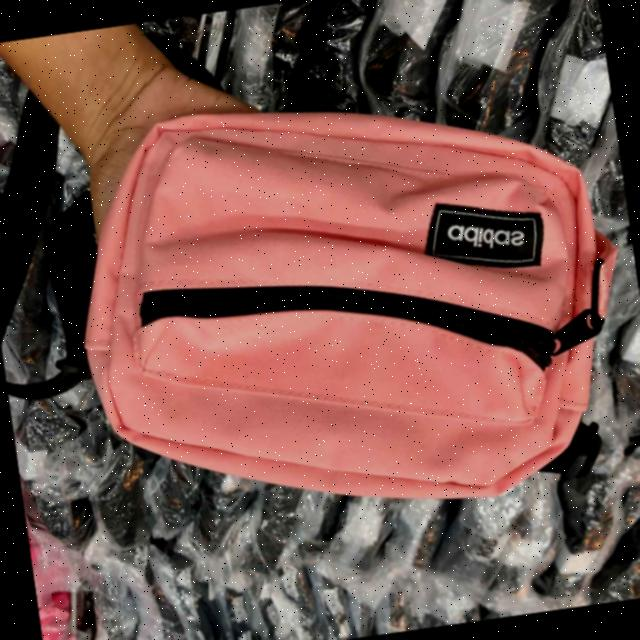Handbag: (28, 69, 640, 566)
